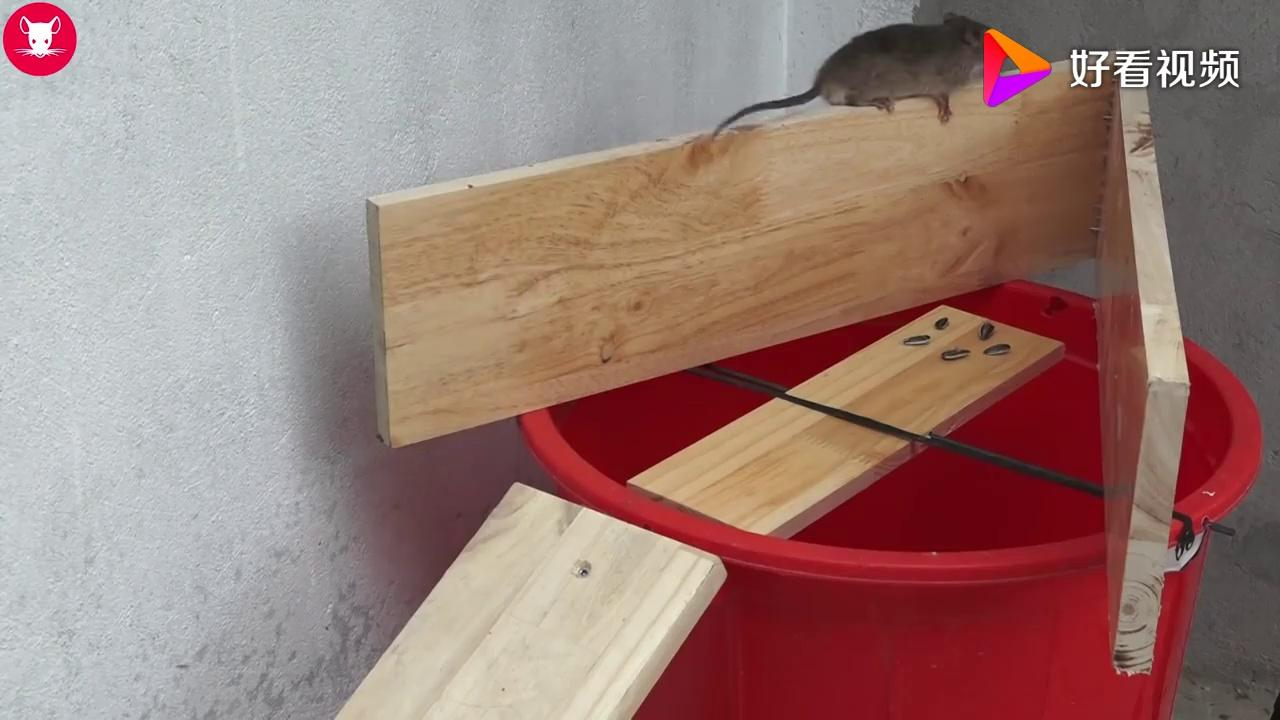rat: (769, 0, 1015, 153)
